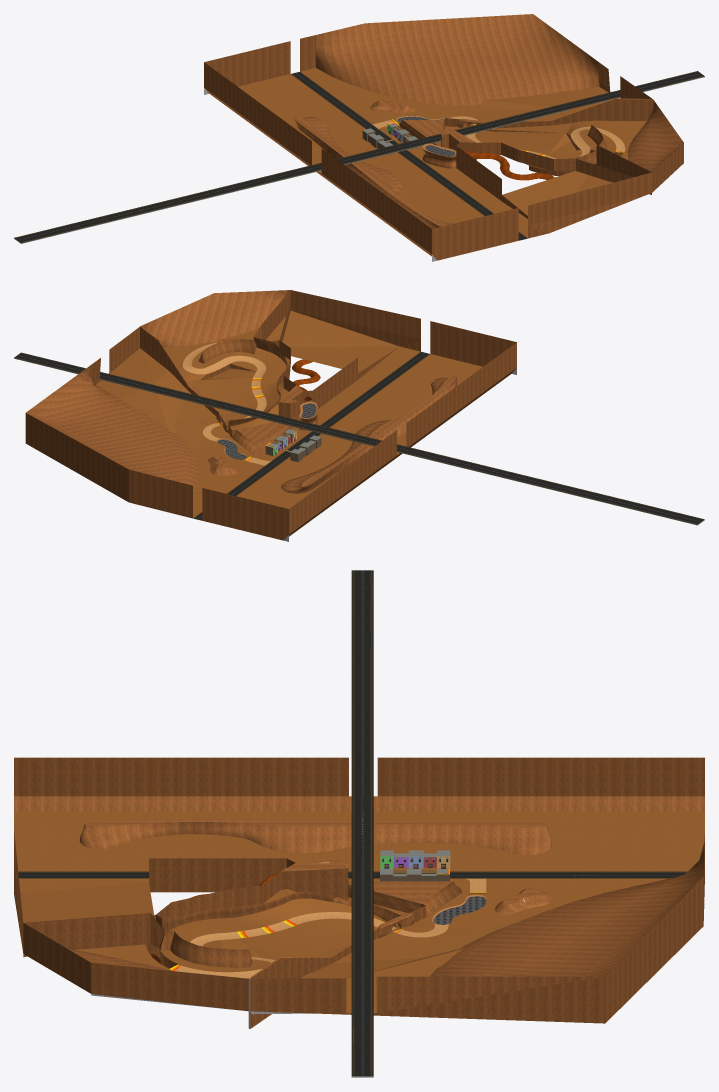
3 renders of one model, top to bottom at view 1: azimuth 30°, elevation 25°; view 2: azimuth 150°, elevation 25°; view 3: azimuth 270°, elevation 25°, orthographic. The views are drawn at different scales.
Visible parts, largest first — view 1: Untitled-SKP--Material10.024, Untitled-SKP--Material3.003, Untitled-SKP--Material1.002, Untitled-SKP--Material.002, Untitled-SKP--Material8.003, Untitled-SKP--Material11.056, Untitled-SKP--Material4.002; view 2: Untitled-SKP--Material10.024, Untitled-SKP--Material3.003, Untitled-SKP--Material1.002, Untitled-SKP--Material8.003, Untitled-SKP--Material.002, Untitled-SKP--Material13.002, Untitled-SKP--Material11.056, Untitled-SKP--buildingside.001; view 3: Untitled-SKP--Material10.024, Untitled-SKP--Material3.003, Untitled-SKP--Material1.002, Untitled-SKP--Material8.003, Untitled-SKP--Buildings.001.
Part boxes in pixels (x1,y1,x2,y2): Untitled-SKP--Material10.024: (204, 14, 683, 260); Untitled-SKP--Material3.003: (238, 68, 646, 237); Untitled-SKP--Material1.002: (14, 71, 704, 242); Untitled-SKP--Material.002: (21, 76, 704, 243); Untitled-SKP--Material8.003: (448, 116, 625, 158); Untitled-SKP--Material11.056: (462, 150, 554, 180); Untitled-SKP--Material4.002: (422, 119, 491, 168); Untitled-SKP--Material10.024: (25, 290, 516, 540); Untitled-SKP--Material3.003: (95, 310, 482, 518); Untitled-SKP--Material1.002: (14, 351, 704, 524); Untitled-SKP--Material8.003: (182, 342, 266, 441); Untitled-SKP--Material.002: (14, 358, 697, 525); Untitled-SKP--Material13.002: (217, 403, 316, 459); Untitled-SKP--Material11.056: (292, 359, 320, 391); Untitled-SKP--buildingside.001: (265, 432, 321, 462); Untitled-SKP--Material10.024: (14, 757, 704, 1028); Untitled-SKP--Material3.003: (14, 811, 704, 1013); Untitled-SKP--Material1.002: (18, 570, 687, 1076); Untitled-SKP--Material8.003: (174, 912, 448, 978); Untitled-SKP--Buildings.001: (380, 856, 450, 868).
Bounding box in the file's own units: 278647 × 13527 × 160901.
Materials: 21 (20 with a texture image).
